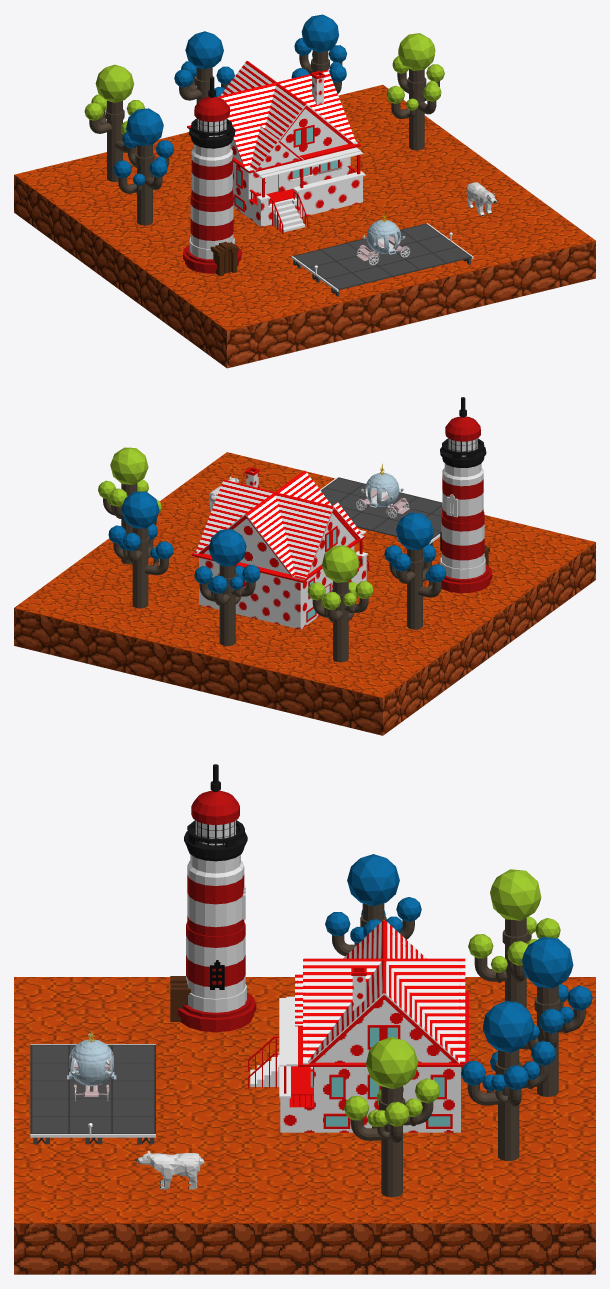
3 renders of one model, top to bottom at view 1: azimuth 30°, elevation 25°; view 2: azimuth 150°, elevation 25°; view 3: azimuth 270°, elevation 25°, orthographic. The views are drawn at different scales.
Visible parts, largest first — view 1: Cube.001, Cube.196, OBJRANDOM_LIGHTHOUSE, VEHICLES_FANTASY_CARRIAGE, ANIMAL_OSO_POLAR; view 2: Cube.001, Cube.196, OBJRANDOM_LIGHTHOUSE, VEHICLES_FANTASY_CARRIAGE; view 3: Cube.001, Cube.196, OBJRANDOM_LIGHTHOUSE, VEHICLES_FANTASY_CARRIAGE, ANIMAL_OSO_POLAR.
Part boxes in pixels (box(x1,y1,x2,y2)): Cube.001: box(14, 14, 595, 368); Cube.196: box(187, 61, 365, 233); OBJRANDOM_LIGHTHOUSE: box(183, 77, 241, 276); VEHICLES_FANTASY_CARRIAGE: box(356, 211, 410, 265); ANIMAL_OSO_POLAR: box(466, 182, 496, 216); Cube.001: box(14, 447, 595, 735); Cube.196: box(191, 467, 368, 629); OBJRANDOM_LIGHTHOUSE: box(440, 397, 492, 593); VEHICLES_FANTASY_CARRIAGE: box(356, 464, 409, 518); Cube.001: box(14, 854, 595, 1274); Cube.196: box(248, 920, 468, 1132); OBJRANDOM_LIGHTHOUSE: box(170, 764, 256, 1032); VEHICLES_FANTASY_CARRIAGE: box(67, 1028, 116, 1101); ANIMAL_OSO_POLAR: box(135, 1151, 204, 1189).
Size of the model in its own units: 4000 by 2383 by 4000.
30 materials, 5 textured.
